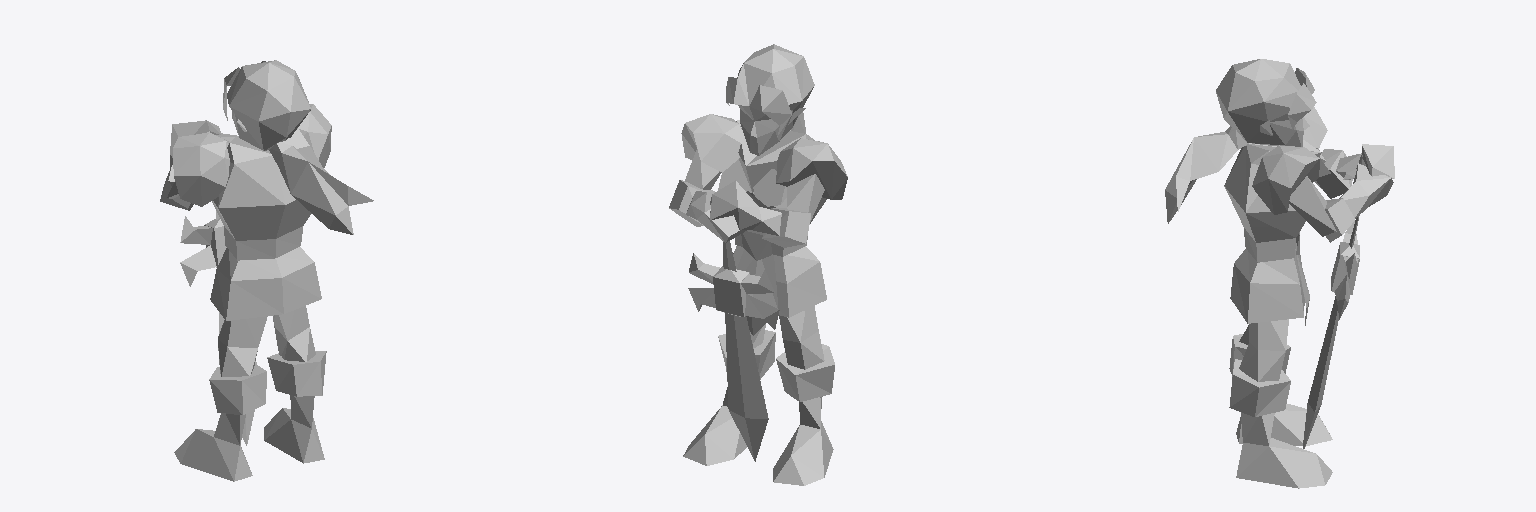
Rendered from MAXIMO2.ICO.obj.
The picture shows the model from 3 angles: view 1: azimuth 30°, elevation 25°; view 2: azimuth 150°, elevation 25°; view 3: azimuth 270°, elevation 25°; orthographic projection.
Bounding box in the file's own units: 2.06 × 4.84 × 2.53.